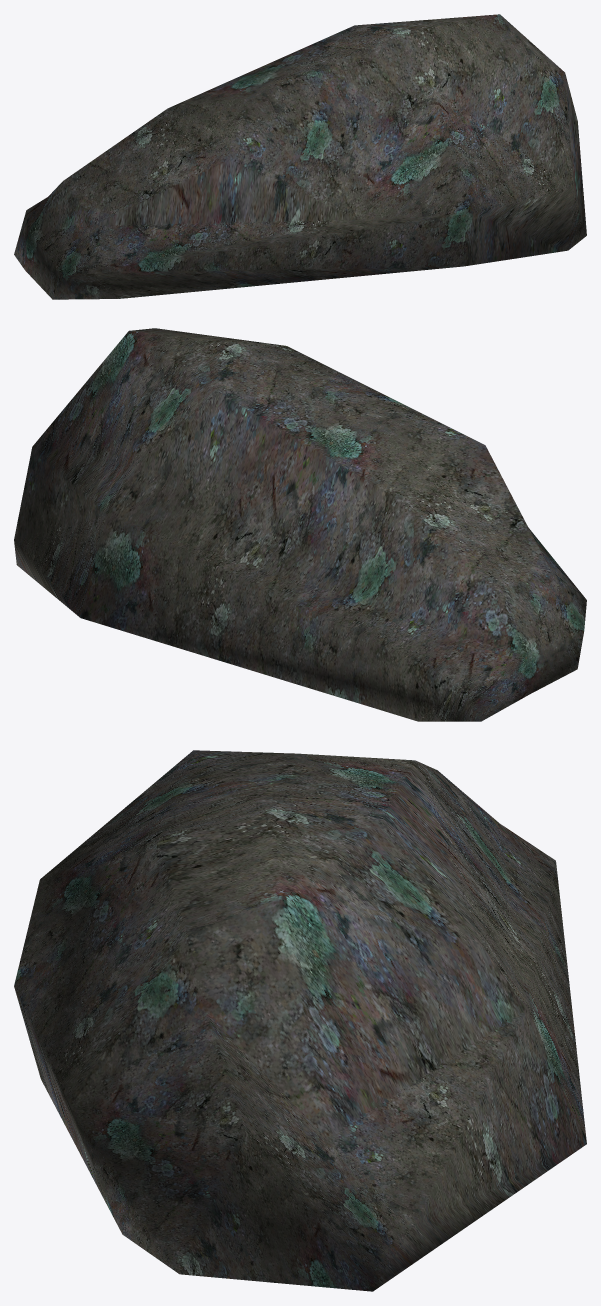
Rendered from rock_forestriverrock_med_l3.fbx.
The picture shows the model from 3 angles, top to bottom: view 1: azimuth 30°, elevation 25°; view 2: azimuth 150°, elevation 25°; view 3: azimuth 270°, elevation 25°; orthographic projection. The views are drawn at different scales.
Visible parts, largest first — view 1: mesh_node; view 2: mesh_node; view 3: mesh_node.
Boxes of the visible parts, x1,y1,x2,y2 form: mesh_node: (14,14,586,299); mesh_node: (14,328,586,721); mesh_node: (14,750,586,1291).
Size of the model in its own units: 1.63 by 0.6924 by 1.01.
Materials: 1 (1 with a texture image).
